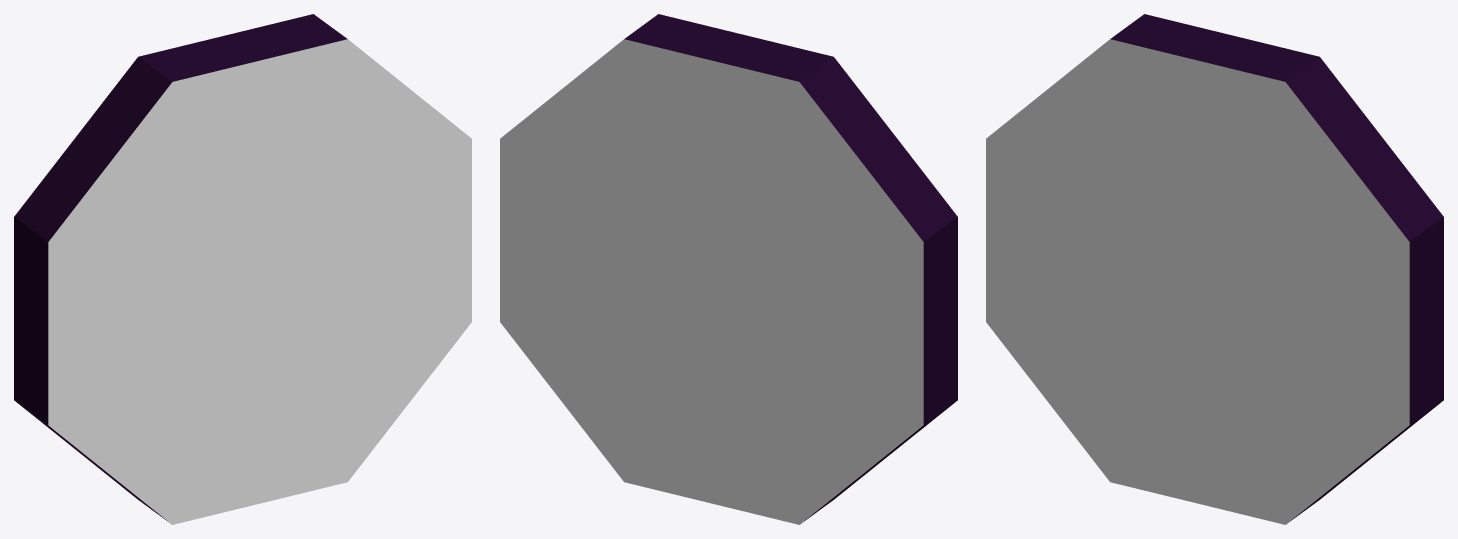
Rendered from aubergine02.obj.
3 renders of one model, left to right at view 1: azimuth 30°, elevation 25°; view 2: azimuth 150°, elevation 25°; view 3: azimuth 330°, elevation 25°, orthographic.
Visible parts, largest first — view 1: Cylinder.001; view 2: Cylinder.001; view 3: Cylinder.001.
Boxes of the visible parts, x1,y1,x2,y2 form: Cylinder.001: (14, 14, 471, 524); Cylinder.001: (500, 14, 957, 524); Cylinder.001: (986, 14, 1443, 524).
Bounding box in the file's own units: 0.0626 × 0.0626 × 0.00879.
Materials: 1 (1 with a texture image).
